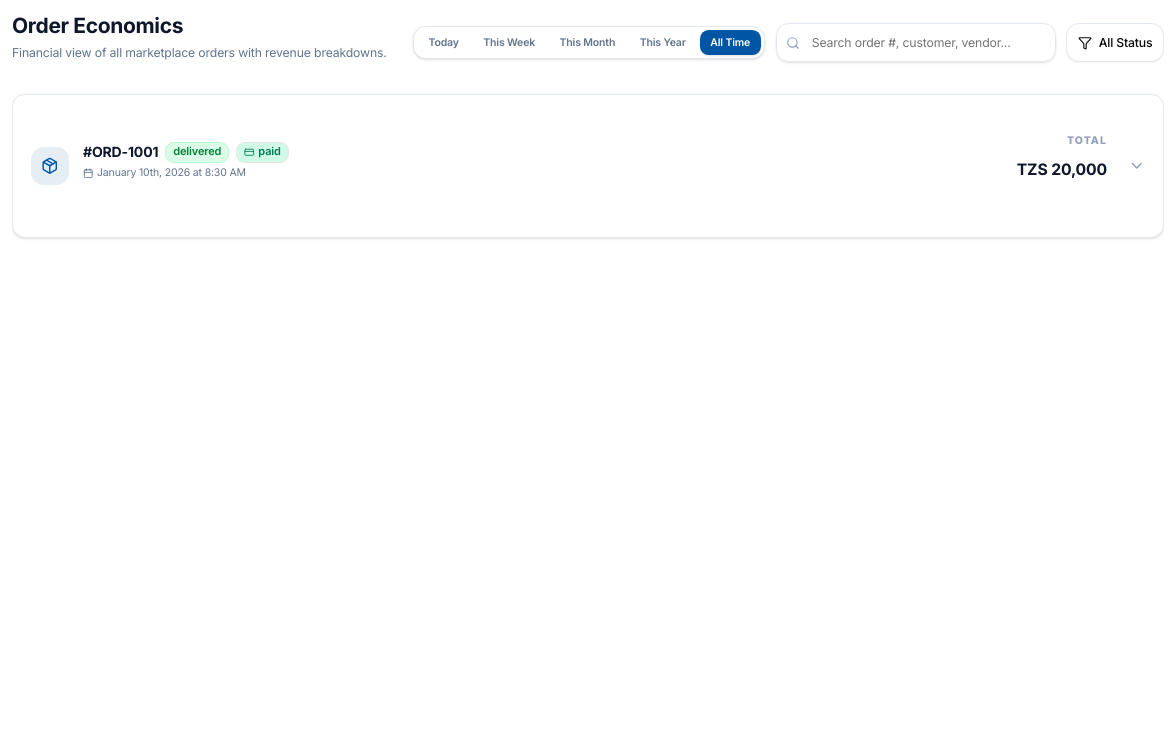
Test case: FinanceOrdersTab › falls back to Guest, N/A merchant and Unassigned driver when data is missing
Click the text "#ORD-1001": (121, 152) [83, 142, 158, 162]
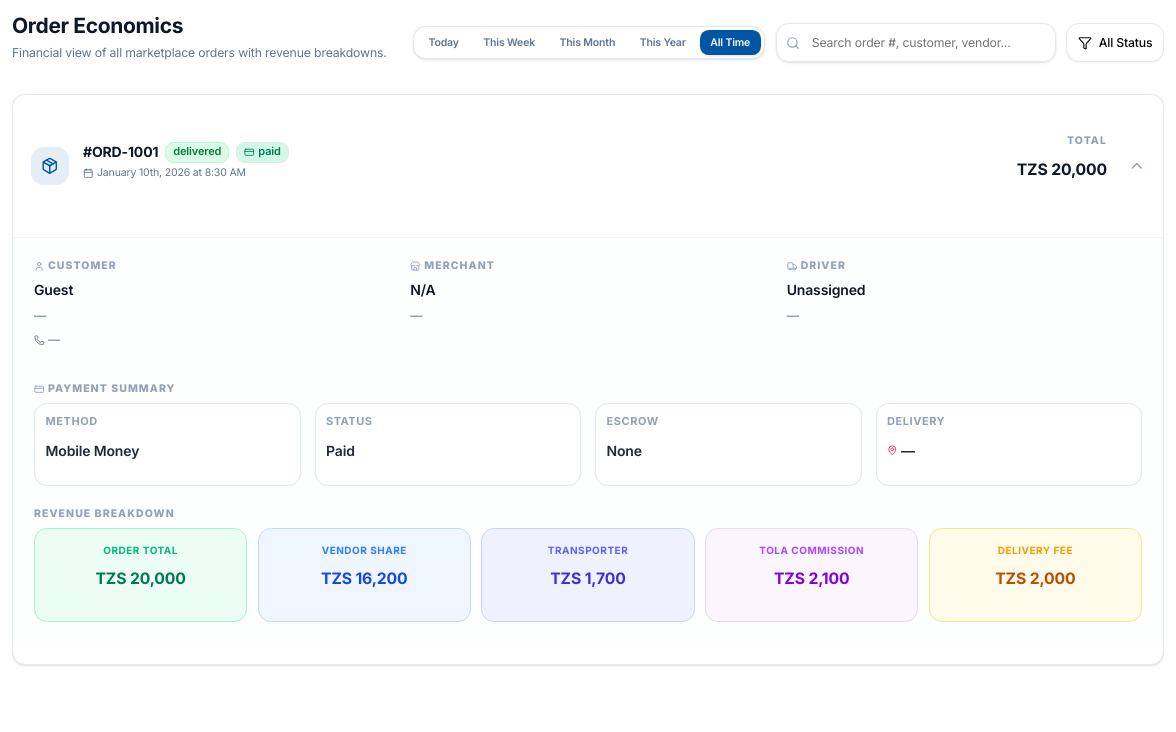
Check: the text "Guest" is shown, box [34, 281, 73, 298]
Check: the text "N/A" is shown, box [410, 281, 436, 298]
Check: the text "Unassigned" is shown, box [787, 281, 866, 298]
